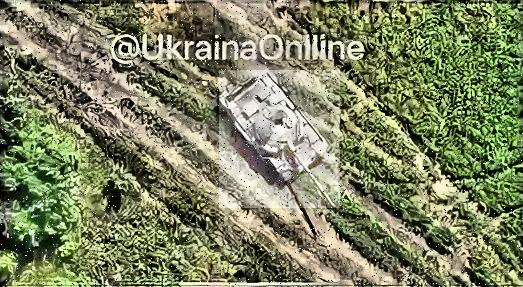military-vehicle: (219, 70, 340, 208)
